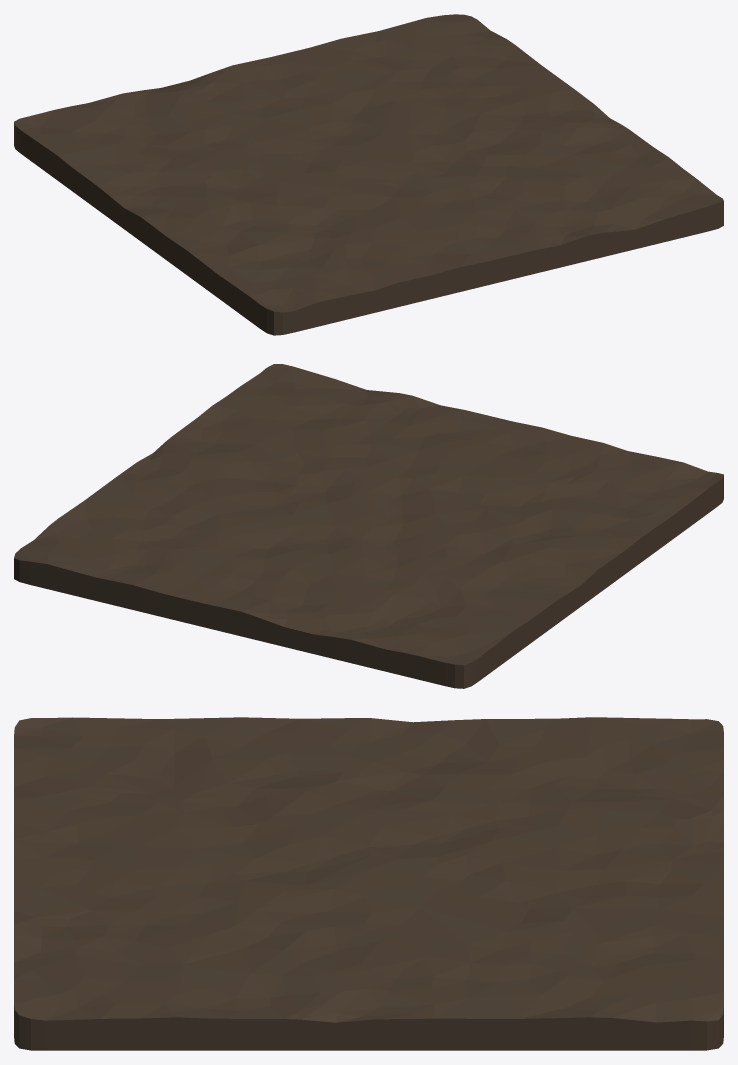
File: terrain_brown.fbx
3 renders of one model, top to bottom at view 1: azimuth 30°, elevation 25°; view 2: azimuth 150°, elevation 25°; view 3: azimuth 270°, elevation 25°, orthographic. The views are drawn at different scales.
Parts seen in each view (by area): view 1: terrain_brown; view 2: terrain_brown; view 3: terrain_brown.
Part boxes in pixels (<box>): terrain_brown: <box>14,14,723,335</box>; terrain_brown: <box>14,364,723,688</box>; terrain_brown: <box>14,717,723,1050</box>.
Bounding box in the file's own units: 2000 × 106 × 2000.
